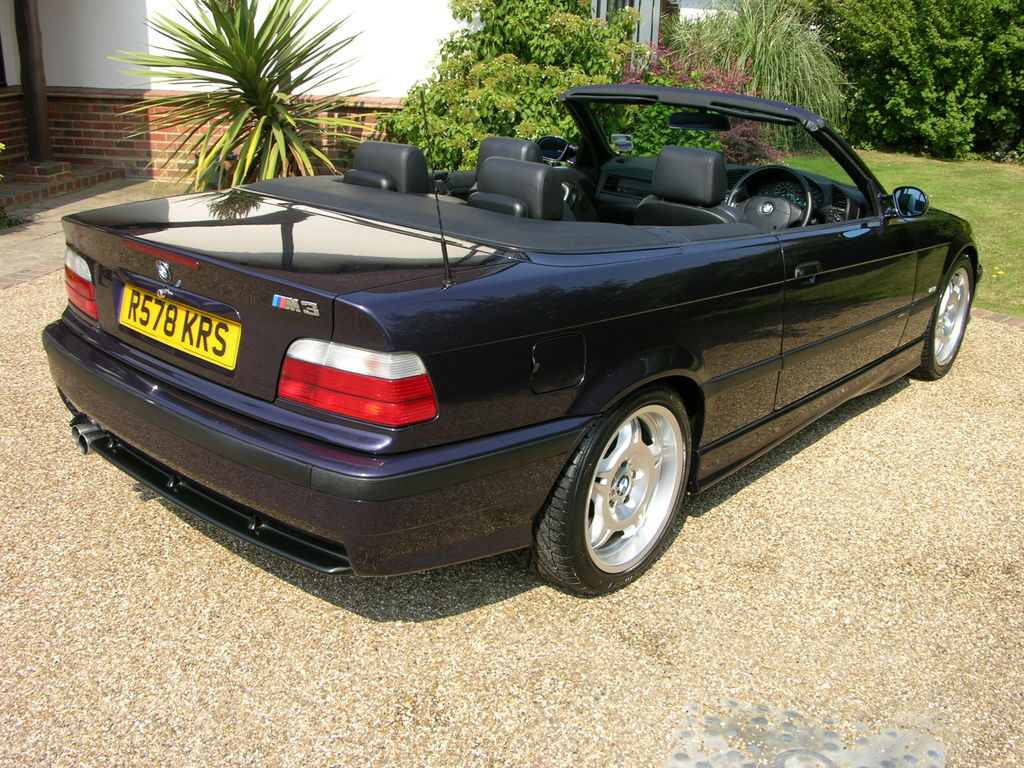Car: (40, 83, 992, 598)
